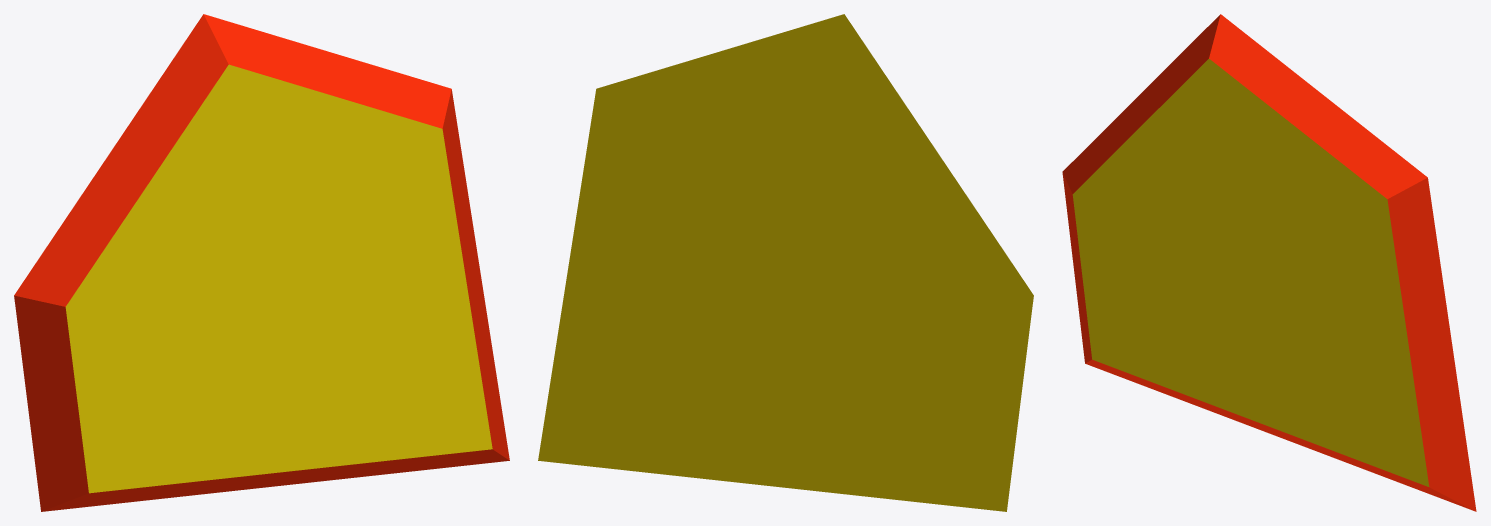
The model's file is RockFlat6.glb.
The picture shows the model from 3 angles, left to right: view 1: azimuth 30°, elevation 25°; view 2: azimuth 150°, elevation 25°; view 3: azimuth 330°, elevation 25°; orthographic projection. The views are drawn at different scales.
Visible parts, largest first — view 1: RockFlat6; view 2: RockFlat6; view 3: RockFlat6.
Boxes of the visible parts, x1,y1,x2,y2 form: RockFlat6: [14, 14, 509, 511]; RockFlat6: [538, 14, 1033, 511]; RockFlat6: [1062, 14, 1476, 511].
Size of the model in its own units: 2.5 by 2.51 by 0.1714.
